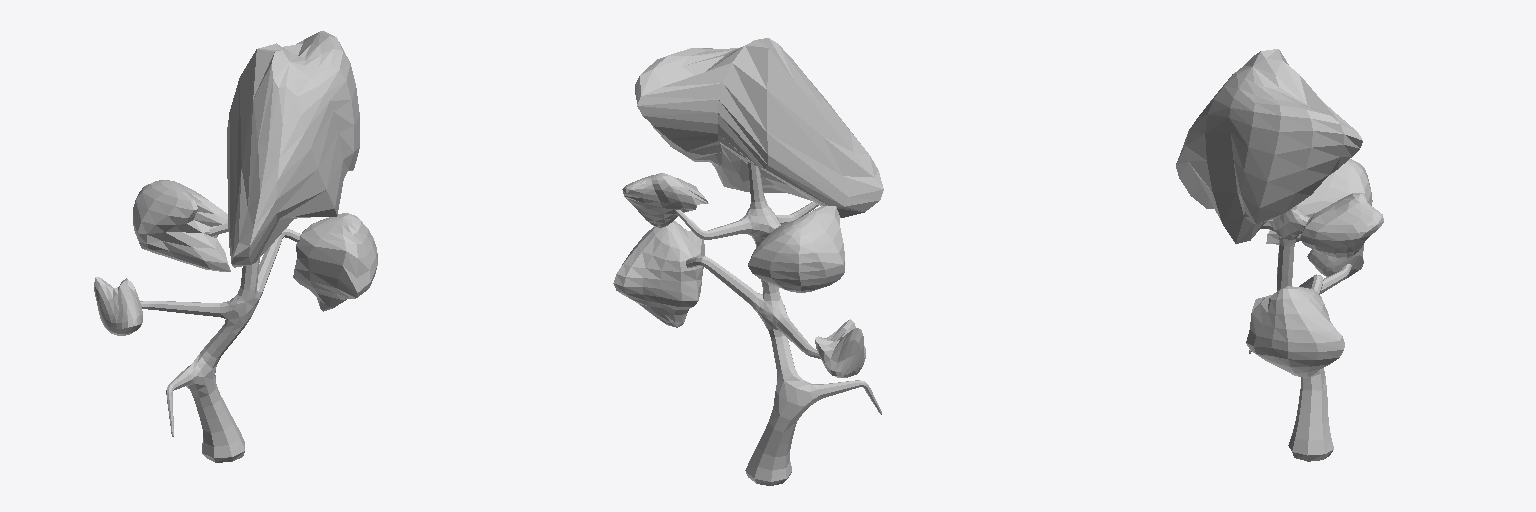
The model's file is normal tree2.obj.
3 renders of one model, left to right at view 1: azimuth 30°, elevation 25°; view 2: azimuth 150°, elevation 25°; view 3: azimuth 270°, elevation 25°, orthographic.
Parts seen in each view (by area): view 1: Sphere; view 2: Sphere; view 3: Sphere.
Boxes of the visible parts, x1=… form: Sphere: x1=94, y1=31, x2=377, y2=462; Sphere: x1=613, y1=38, x2=883, y2=485; Sphere: x1=1176, y1=49, x2=1383, y2=461.
Size of the model in its own units: 14.66 by 22.91 by 10.37.